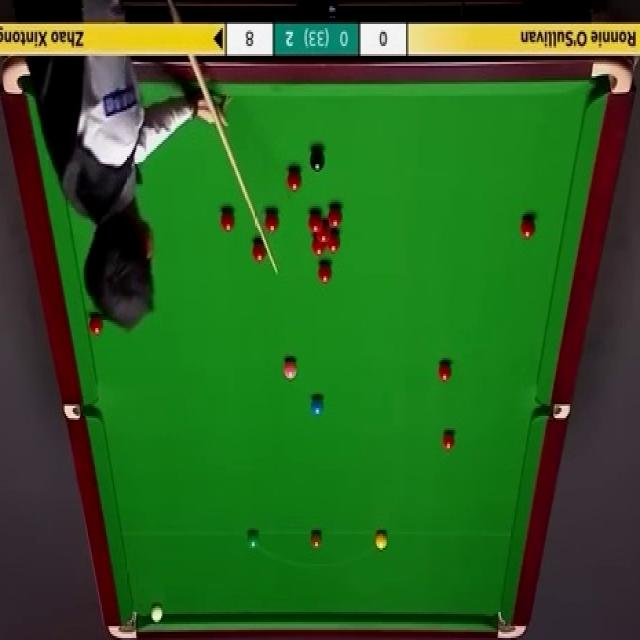black-ball: (308, 147, 325, 174)
blue-ball: (310, 394, 325, 418)
brown-ball: (310, 530, 323, 550)
green-ball: (247, 530, 260, 551)
pink-ball: (280, 352, 300, 380)
red-ball: (86, 309, 104, 337), (285, 167, 303, 194), (436, 359, 454, 382), (521, 216, 537, 240), (264, 209, 280, 233), (251, 240, 267, 264), (220, 208, 236, 232), (442, 427, 457, 451), (308, 210, 324, 232), (317, 262, 332, 283), (328, 206, 342, 228), (326, 230, 341, 250), (311, 237, 326, 256), (317, 225, 330, 242)
white-ball: (148, 600, 165, 625)
yellow-ball: (375, 530, 387, 550)
